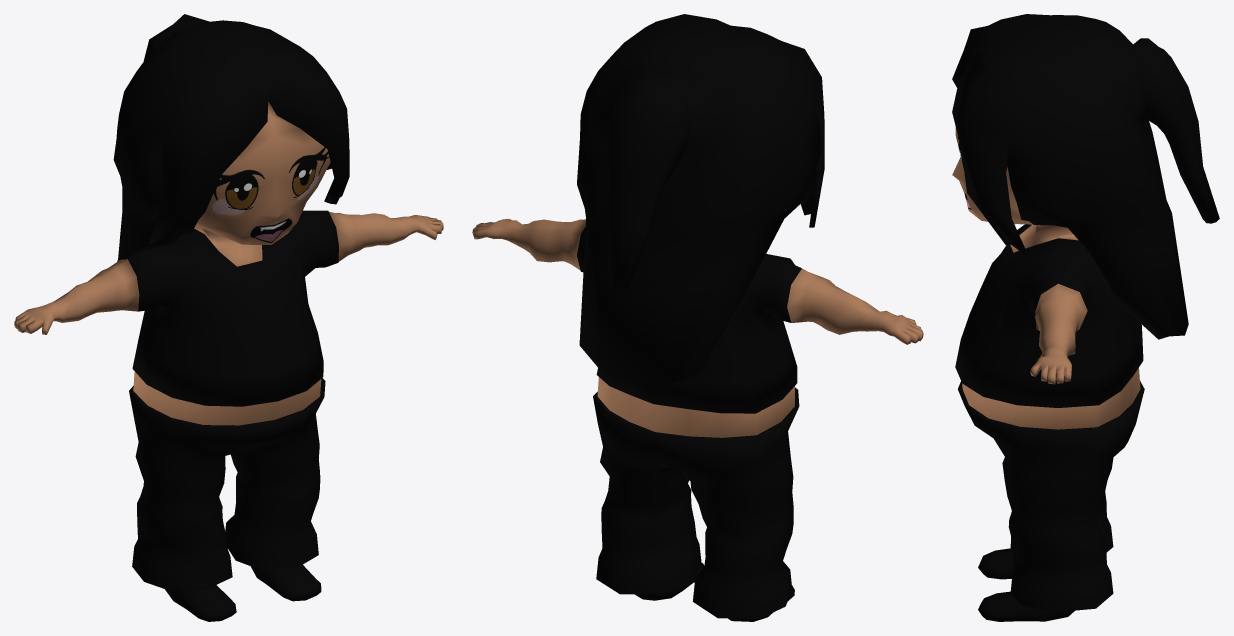
Rendered from MrDeanSatine.fbx.
3 renders of one model, left to right at view 1: azimuth 30°, elevation 25°; view 2: azimuth 150°, elevation 25°; view 3: azimuth 270°, elevation 25°, orthographic. The views are drawn at different scales.
Parts seen in each view (by area): view 1: MistaSatine; view 2: MistaSatine; view 3: MistaSatine.
Part boxes in pixels (x1,y1,x2,y2): MistaSatine: (14, 14, 443, 621); MistaSatine: (472, 14, 923, 621); MistaSatine: (952, 14, 1219, 621).
Bounding box in the file's own units: 893 × 1107 × 473.
1 material, 1 textured.
